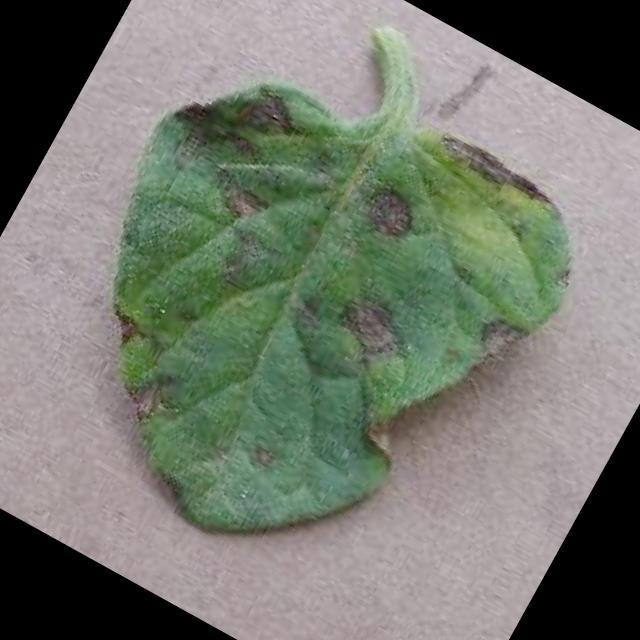Tomato Early blight leaf: (0, 5, 611, 634)
